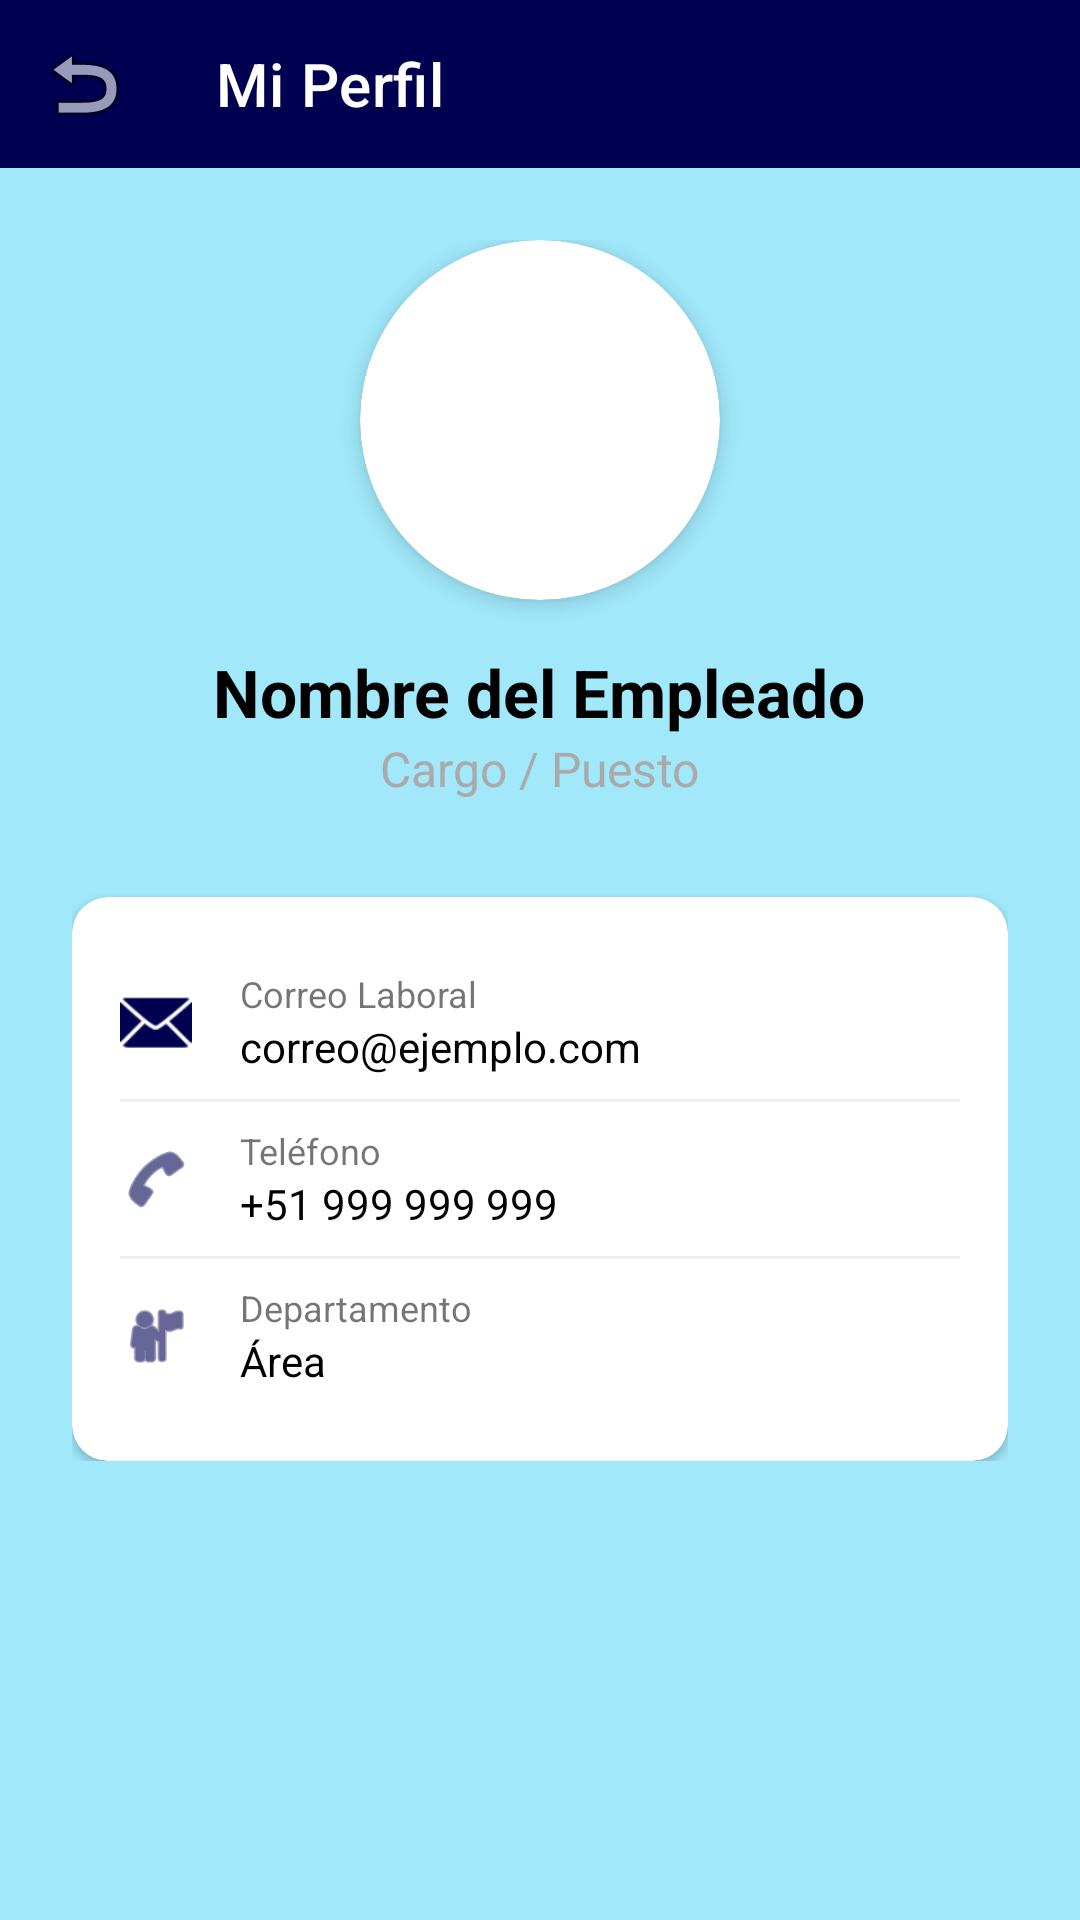

Named icons in this screenshot (1080 x 1920) and their centers, [x,y]:
call: [156,1179]
email: [156,1022]
myplaces: [157,1336]
